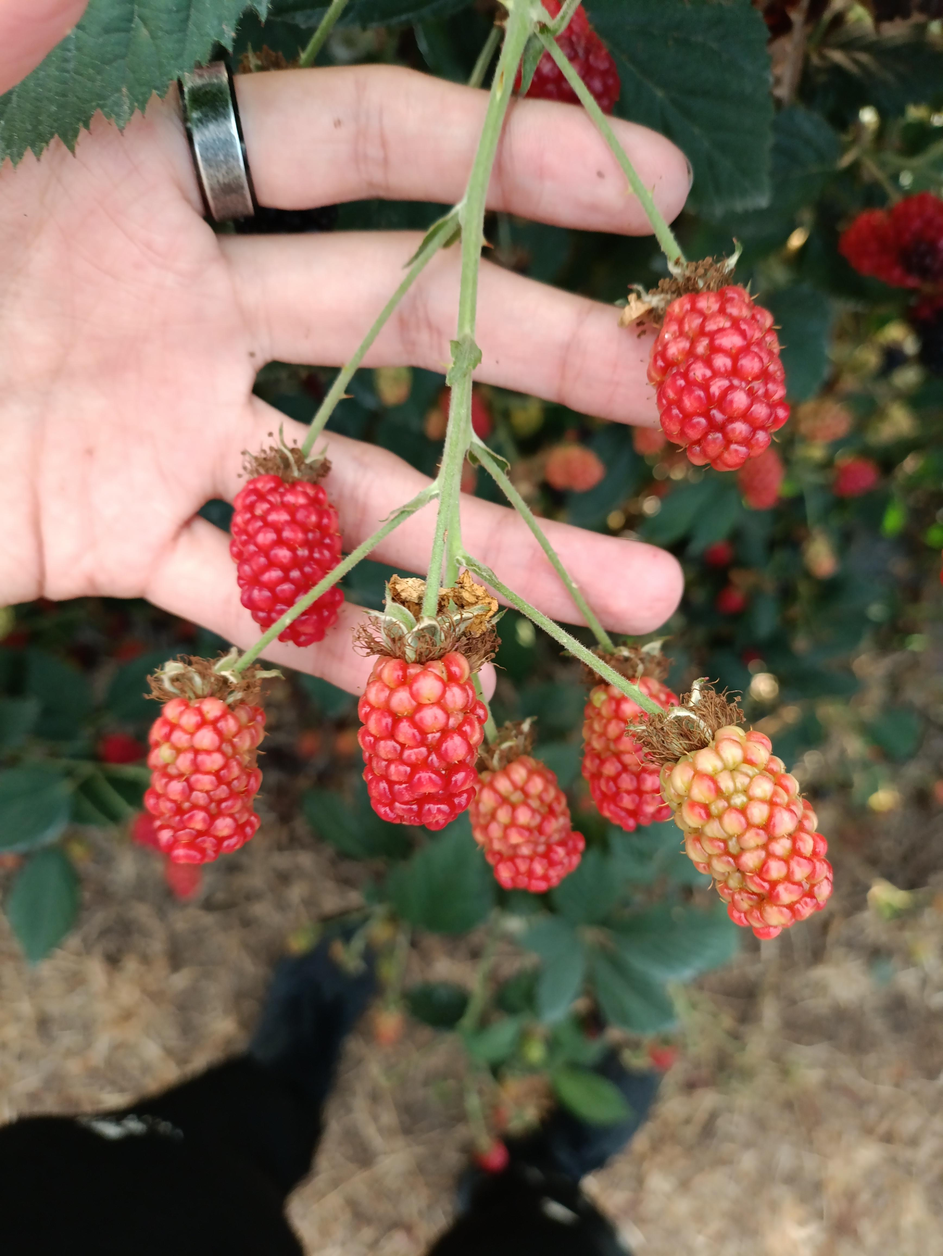naranja: (648, 285, 790, 470), (358, 651, 485, 829), (146, 693, 265, 864), (469, 722, 584, 893), (230, 474, 341, 629)
